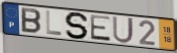2: (139, 20, 157, 47)
B: (20, 7, 42, 35)
E: (89, 14, 112, 43)
L: (45, 9, 63, 37)
S: (64, 11, 91, 41)
U: (111, 15, 135, 45)
